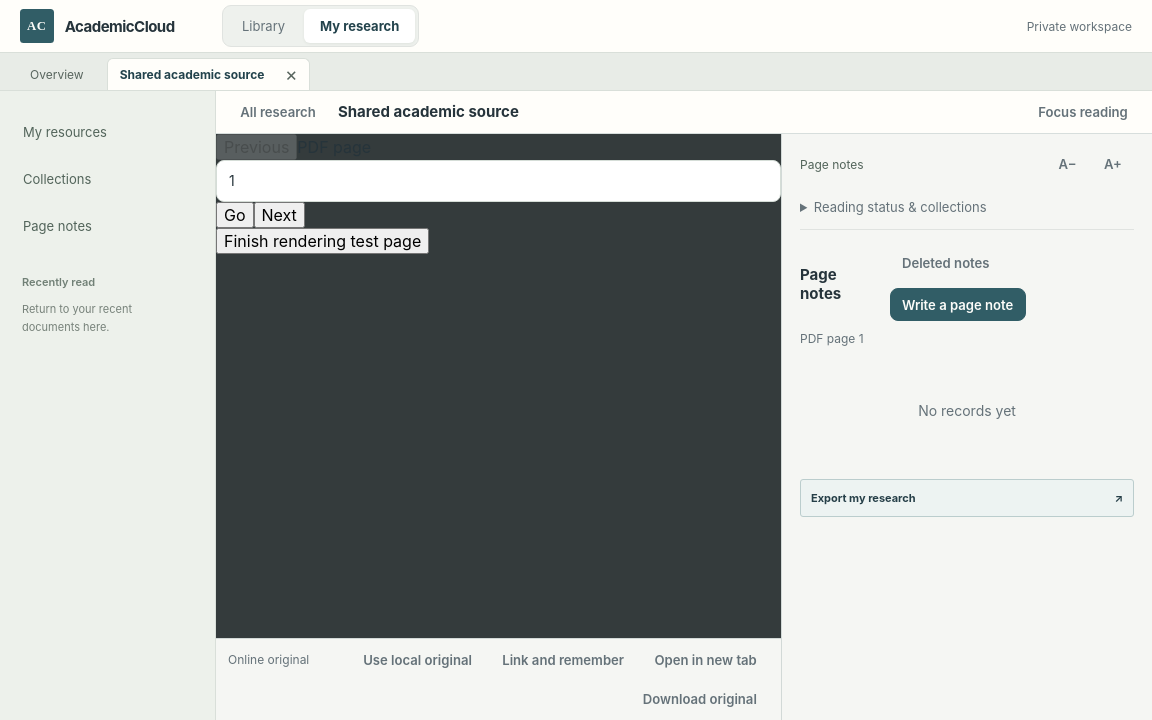
Test: private workspace › keeps the authorized reader mounted when saving a page note
Click the button "Write a page note" at {"x": 958, "y": 305}, box left=890, top=288, right=1026, bottom=321
(page scrolled)
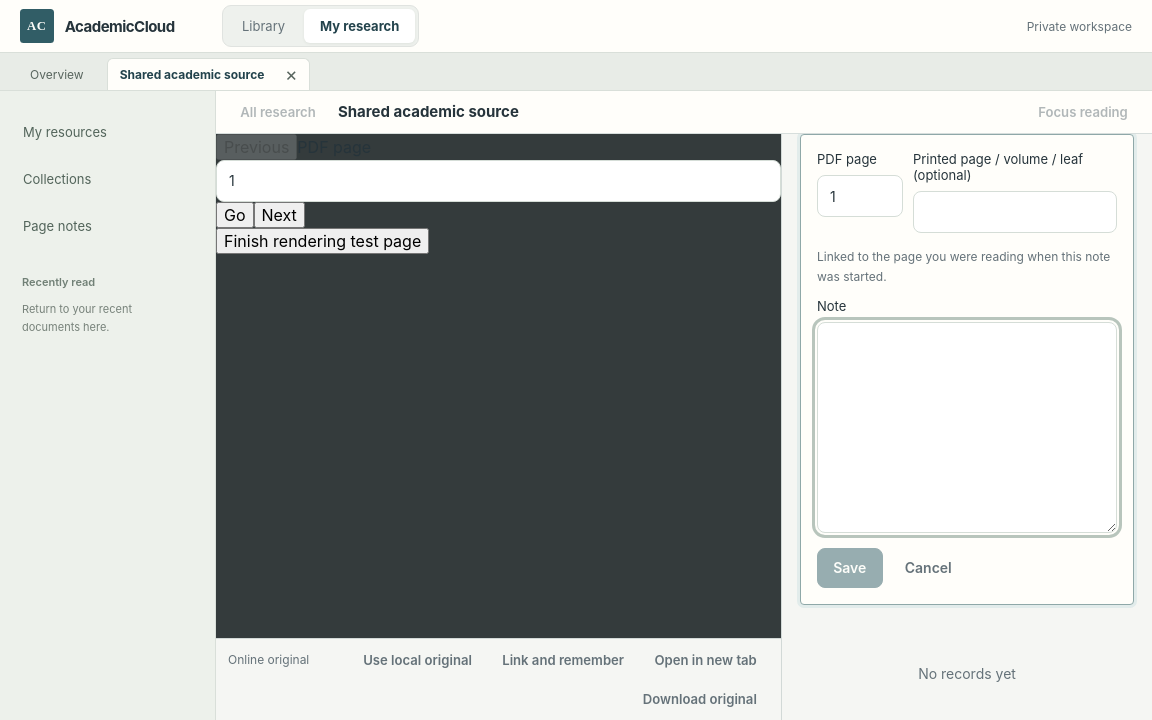
Type "A saved interpretation" into the text box labelled "Note" at {"x": 967, "y": 427}, box left=817, top=322, right=1117, bottom=533
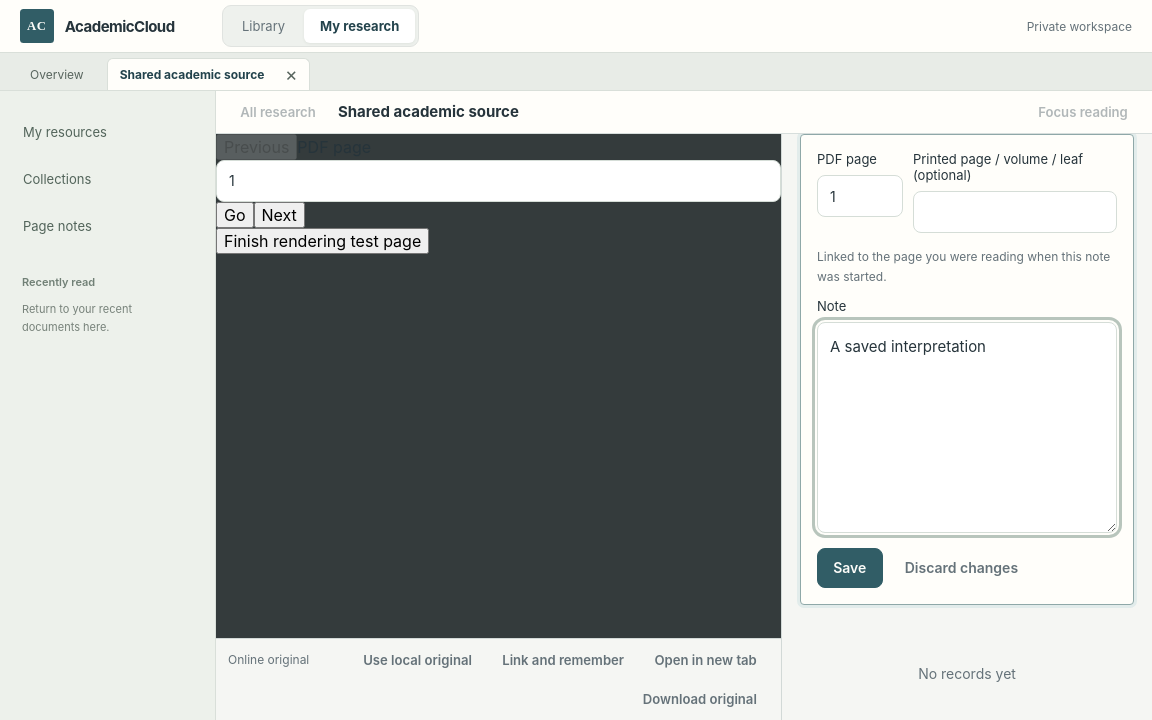
Click the button "Save" at {"x": 850, "y": 568}, box left=817, top=548, right=882, bottom=588
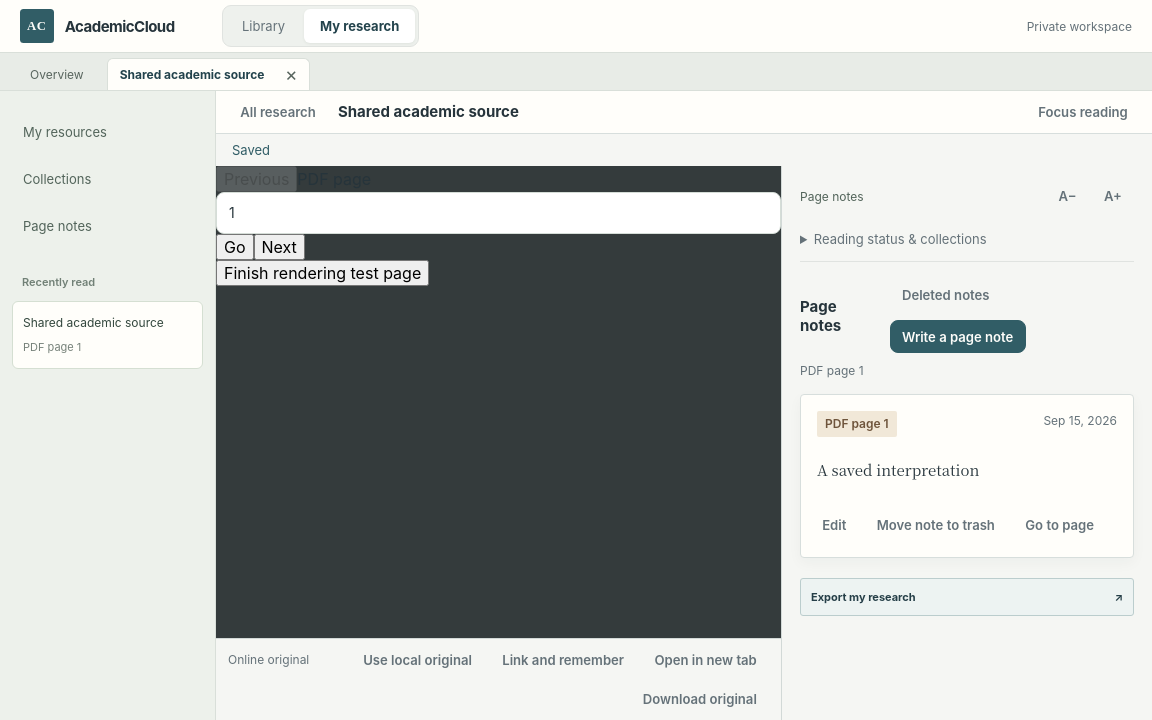
Result: the text "A saved interpretation" is shown at left=817, top=459, right=979, bottom=480
